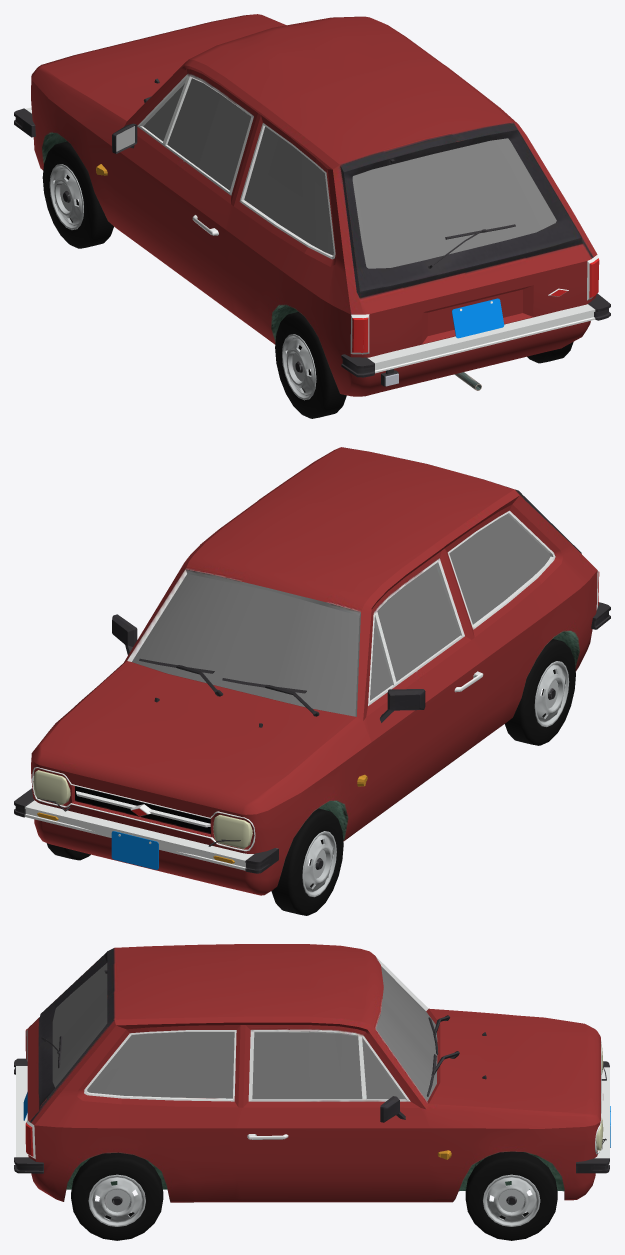
File: 1981_baird_paella (1).glb
3 renders of one model, top to bottom at view 1: azimuth 30°, elevation 25°; view 2: azimuth 150°, elevation 25°; view 3: azimuth 270°, elevation 25°, orthographic. The views are drawn at different scales.
Visible parts, largest first — view 1: Headlampwiperright; view 2: Headlampwiperright; view 3: Headlampwiperright.
Part boxes in pixels (x1,y1,x2,y2): Headlampwiperright: (14,14,610,418); Headlampwiperright: (14,447,610,915); Headlampwiperright: (14,944,610,1240).
Size of the model in its own units: 106 by 82.99 by 208.
Materials: 1 (1 with a texture image).
